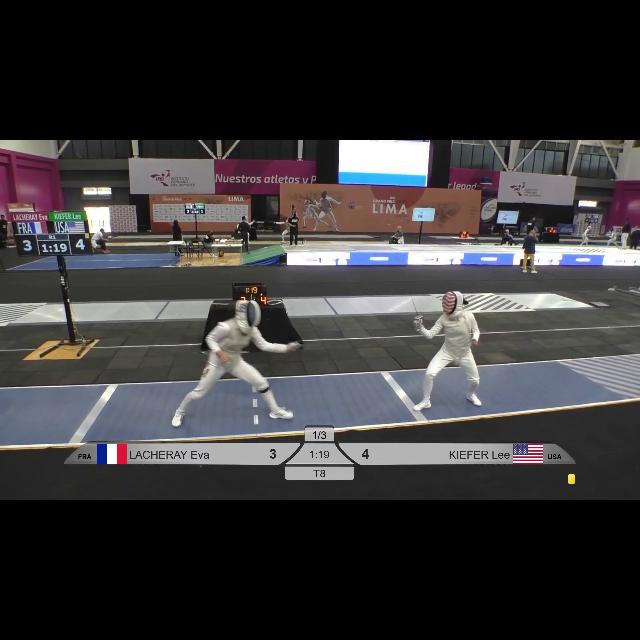blade: (409, 289, 423, 323)
